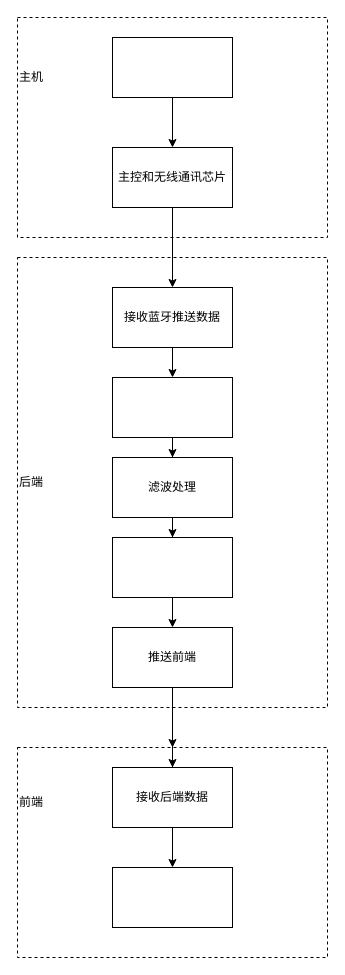
Image size: 345x975. Some labels were removed from this diagram. Each missing label, with the centre of its shape:
"原始数据缓存" belongs at [172,407].
"波形展示" belongs at [172,897].
"滤波后缓存" belongs at [172,567].
"集成模拟前端芯片" belongs at [172,67].
